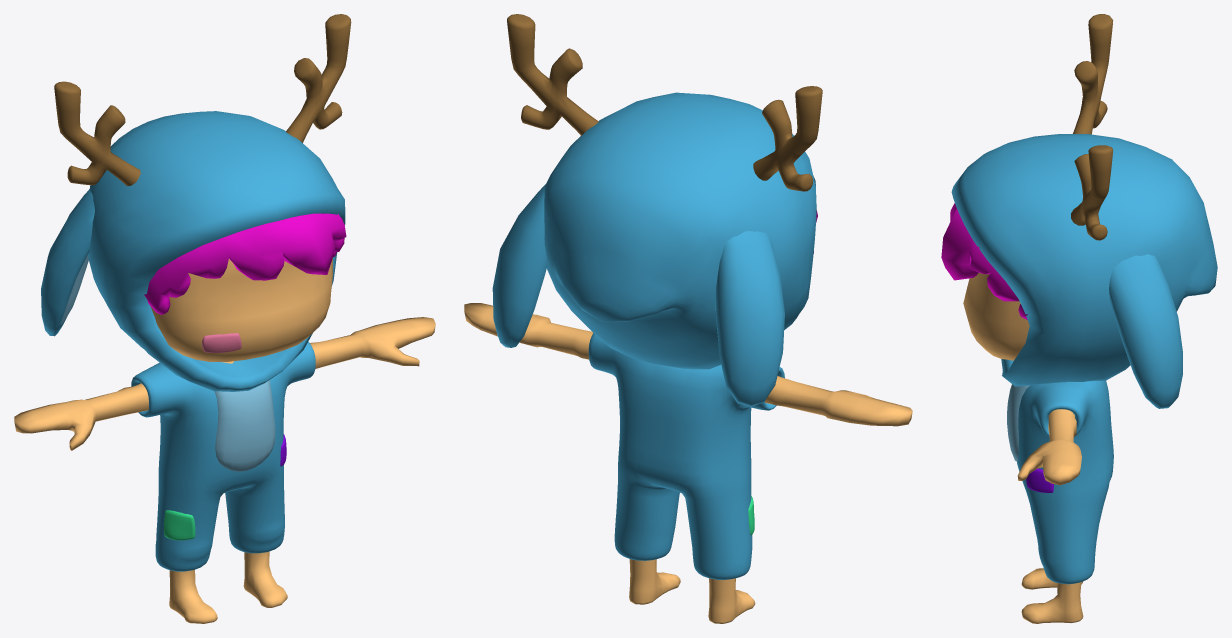
The model's file is enfant_base.fbx.
3 renders of one model, left to right at view 1: azimuth 30°, elevation 25°; view 2: azimuth 150°, elevation 25°; view 3: azimuth 270°, elevation 25°, orthographic. The views are drawn at different scales.
Visible parts, largest first — view 1: hood, body, pyjama, hair, horns, pyjama_details, ears_hood, green_patch, bandage; view 2: hood, pyjama, ears_hood, body, horns; view 3: hood, pyjama, body, ears_hood, horns, hair, pyjama_details, purple_patch.
Boxes of the visible parts, bbox=[...] form: hood: bbox=[88, 111, 345, 391]; body: bbox=[14, 258, 435, 623]; pyjama: bbox=[131, 342, 315, 571]; hair: bbox=[144, 213, 346, 314]; horns: bbox=[54, 14, 351, 186]; pyjama_details: bbox=[214, 380, 275, 471]; ears_hood: bbox=[41, 189, 94, 336]; green_patch: bbox=[164, 510, 195, 540]; bandage: bbox=[202, 333, 241, 352]; hood: bbox=[544, 92, 816, 369]; pyjama: bbox=[588, 333, 784, 579]; ears_hood: bbox=[492, 184, 784, 406]; body: bbox=[464, 303, 912, 623]; horns: bbox=[507, 14, 822, 191]; hood: bbox=[951, 134, 1217, 386]; pyjama: bbox=[1017, 380, 1113, 584]; body: bbox=[963, 273, 1083, 623]; ears_hood: bbox=[1109, 254, 1182, 408]; horns: bbox=[1071, 14, 1113, 240]; hair: bbox=[941, 203, 1027, 319]; pyjama_details: bbox=[1007, 384, 1029, 461]; purple_patch: bbox=[1026, 468, 1053, 492].
Bounding box in the file's own units: 200 × 244 × 118.
